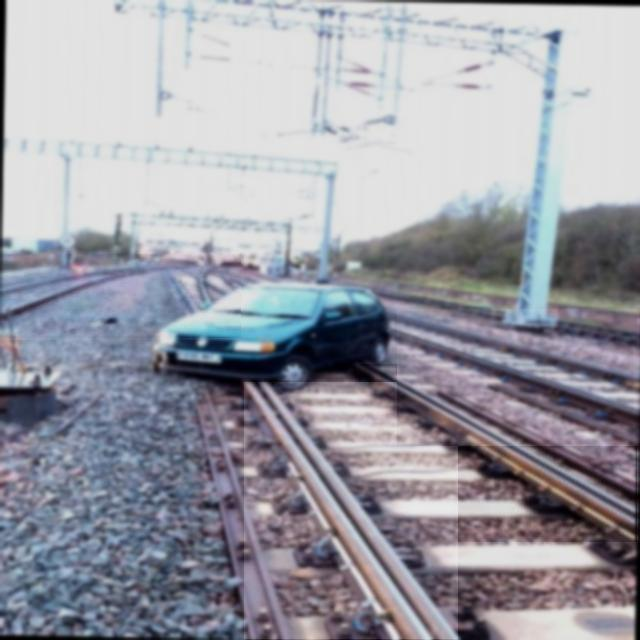rail: (245, 384, 459, 640), (360, 365, 638, 543), (398, 310, 640, 447), (1, 255, 242, 339)
